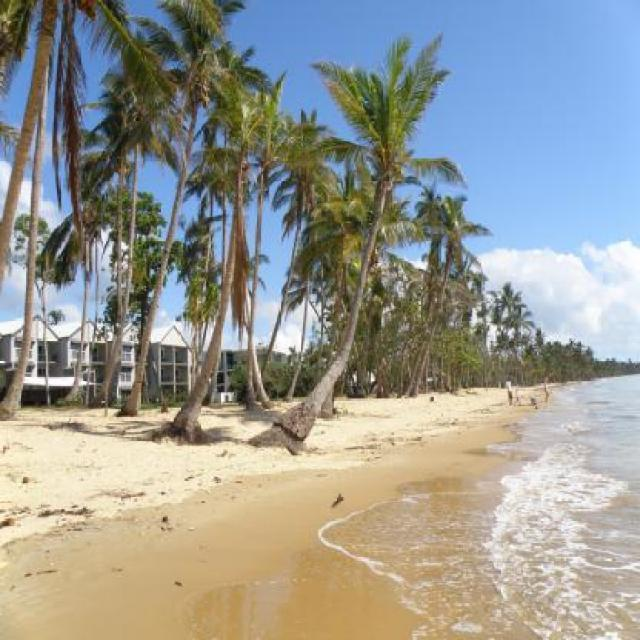Coconut: (184, 73, 210, 112)
